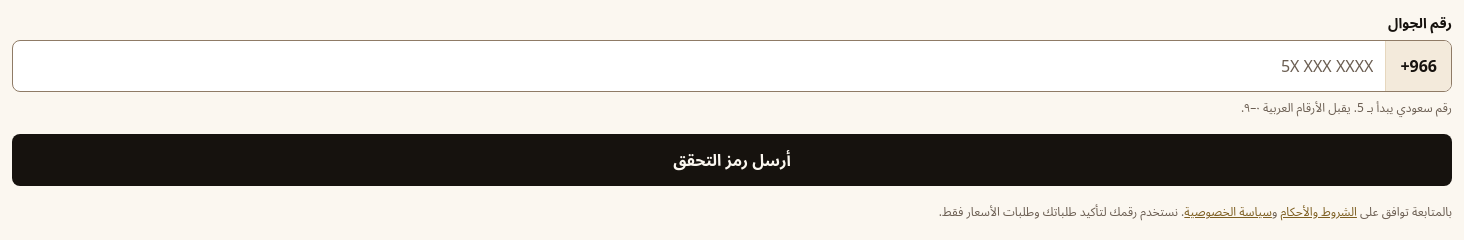
it: CustomerLoginForm › validates the phone on the client (no request) and keeps the input
Type "12345" into the field labelled "رقم الجوال" at coordinates (699, 66), box [13,41,1385,91]
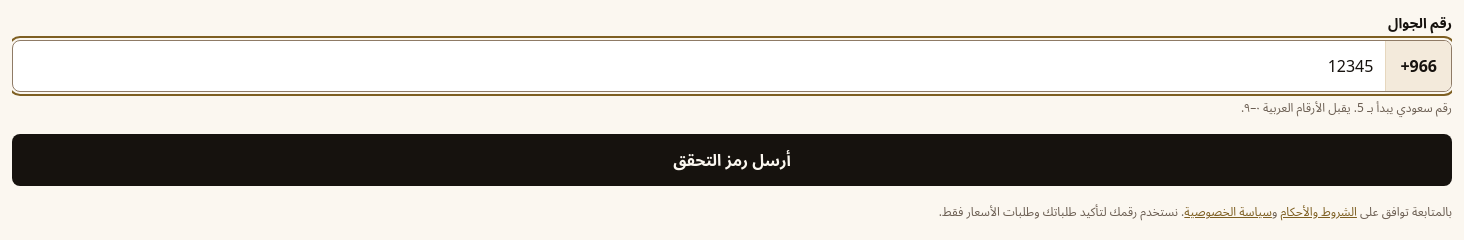
Click the button "أرسل رمز التحقق" at coordinates (732, 160), box [12,134,1452,186]
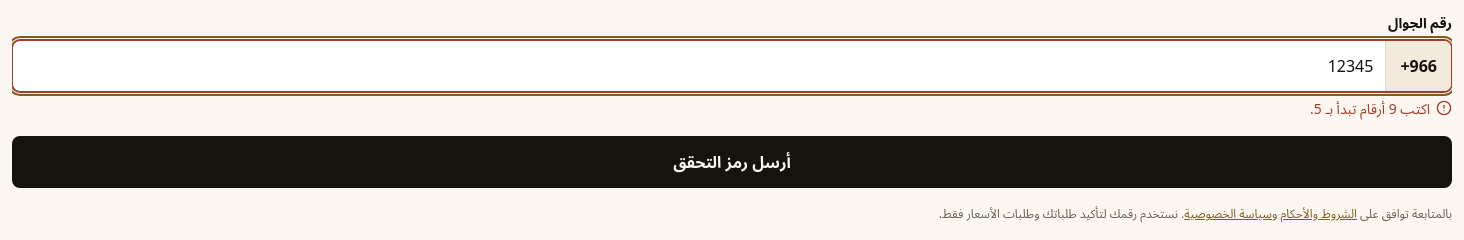
Result: the message reads "اكتب 9 أرقام تبدأ بـ 5." at [1310,99,1430,118]
